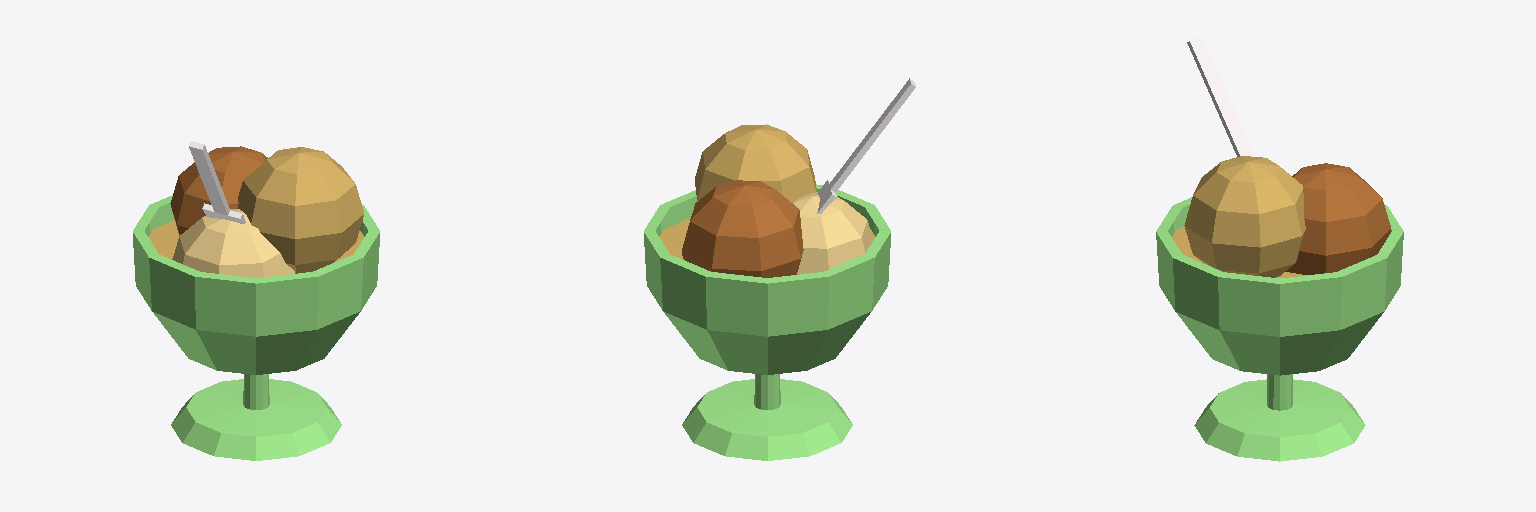
3 renders of one model, left to right at view 1: azimuth 30°, elevation 25°; view 2: azimuth 150°, elevation 25°; view 3: azimuth 270°, elevation 25°, orthographic.
Parts seen in each view (by area): view 1: Plane_Mesh, Sphere.001_Mesh, Sphere.002_Mesh, Sphere_Mesh, Cube_Mesh, Circle.001_Mesh; view 2: Plane_Mesh, Sphere_Mesh, Sphere.001_Mesh, Sphere.002_Mesh, Cube_Mesh, Circle.001_Mesh; view 3: Plane_Mesh, Sphere.001_Mesh, Sphere_Mesh, Cube_Mesh.
Boxes of the visible parts, x1,y1,x2,y2 form: Plane_Mesh: [133, 195, 379, 460]; Sphere.001_Mesh: [238, 147, 363, 273]; Sphere.002_Mesh: [172, 209, 294, 277]; Sphere_Mesh: [170, 146, 267, 235]; Cube_Mesh: [189, 141, 245, 223]; Circle.001_Mesh: [149, 220, 363, 262]; Plane_Mesh: [644, 184, 890, 460]; Sphere_Mesh: [682, 180, 803, 277]; Sphere.001_Mesh: [695, 124, 816, 202]; Sphere.002_Mesh: [793, 192, 872, 274]; Cube_Mesh: [817, 78, 915, 213]; Circle.001_Mesh: [660, 218, 874, 259]; Plane_Mesh: [1156, 197, 1403, 461]; Sphere.001_Mesh: [1184, 156, 1305, 277]; Sphere_Mesh: [1285, 163, 1390, 274]; Cube_Mesh: [1187, 36, 1267, 157].
Size of the model in its own units: 0.1659 by 0.2486 by 0.1652.
1 materials, 1 textured.